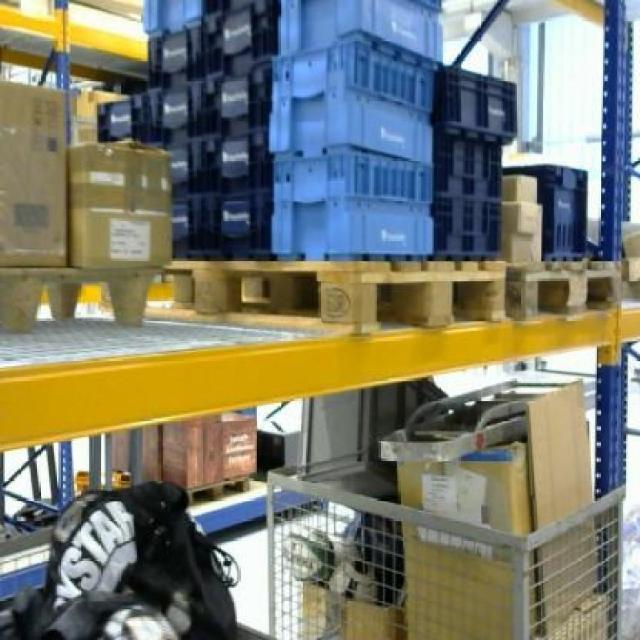box: (406, 456, 517, 638), (66, 140, 172, 268), (0, 77, 68, 268)
